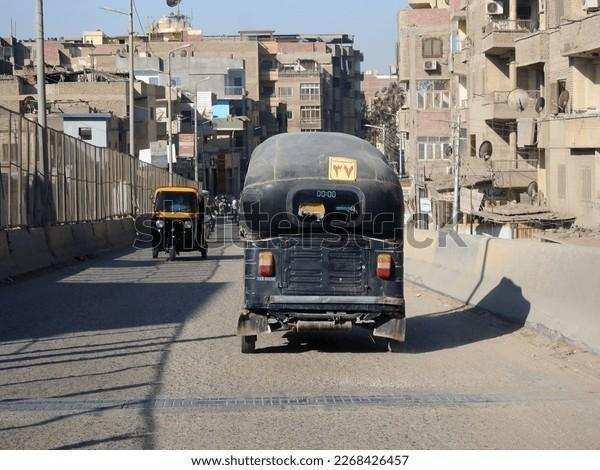keke: (237, 125, 412, 348), (154, 186, 210, 264)
